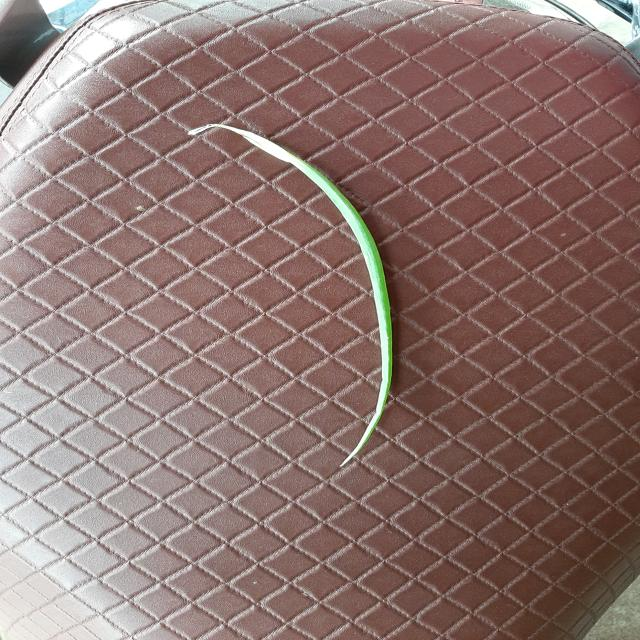onion: (187, 124, 393, 466)
